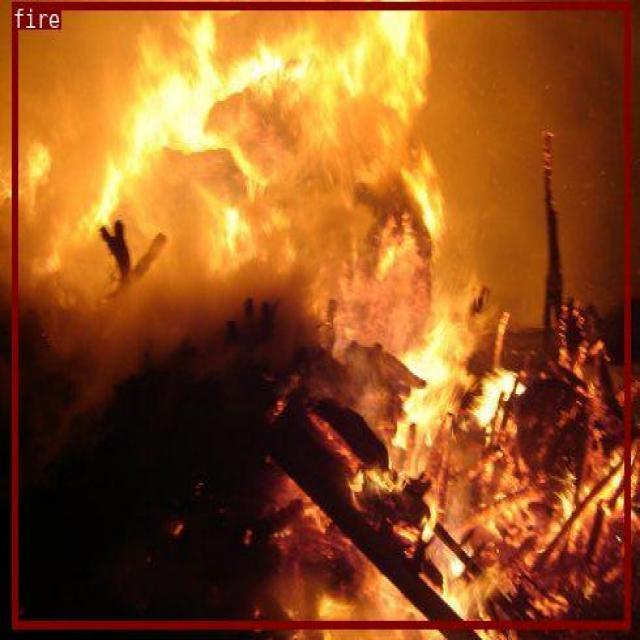fire: (11, 1, 629, 628)
